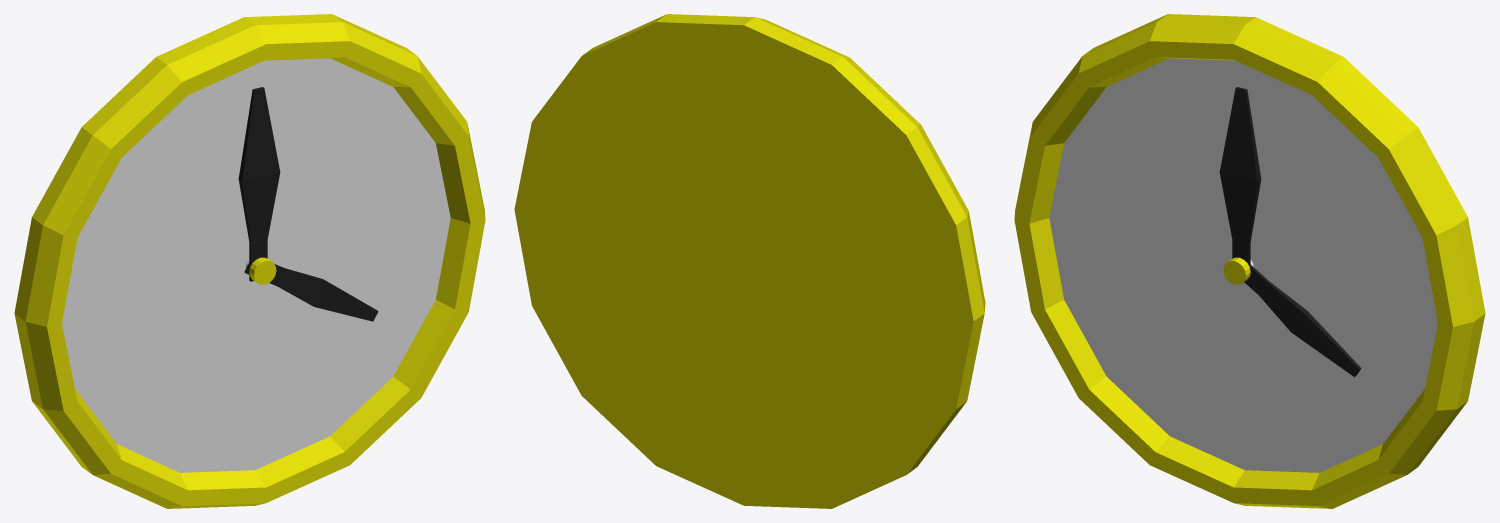
Rendered from Wall clock.fbx.
The picture shows the model from 3 angles, left to right: view 1: azimuth 30°, elevation 25°; view 2: azimuth 150°, elevation 25°; view 3: azimuth 330°, elevation 25°; orthographic projection.
Visible parts, largest first — view 1: Circle.001; view 2: Circle.001; view 3: Circle.001.
Part boxes in pixels (left/top/right/bottom): Circle.001: left=14, top=14, right=485, bottom=508; Circle.001: left=514, top=14, right=985, bottom=508; Circle.001: left=1014, top=14, right=1485, bottom=508.
Bounding box in the file's own units: 113 × 113 × 9.46.
